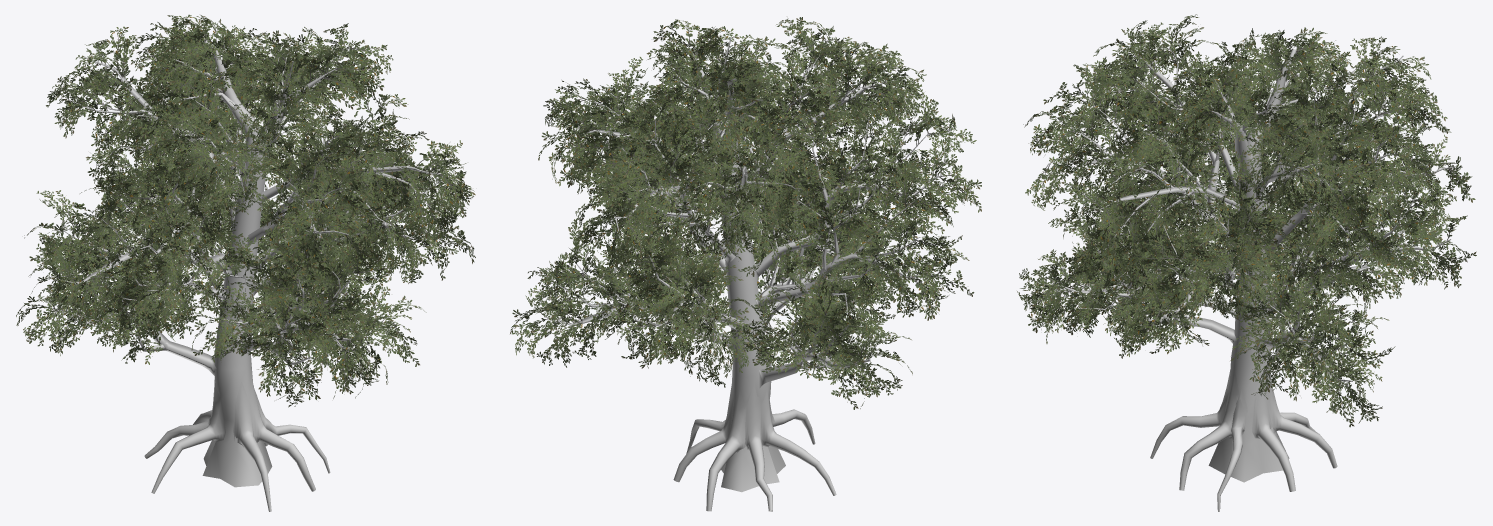
3 views of the same model, side by side, from view 1: azimuth 30°, elevation 25°; view 2: azimuth 150°, elevation 25°; view 3: azimuth 270°, elevation 25° (orthographic).
Parts seen in each view (by area): view 1: Oak01_LOD0; view 2: Oak01_LOD0; view 3: Oak01_LOD0.
Part boxes in pixels (x1,y1,x2,y2): Oak01_LOD0: (16,14,475,511); Oak01_LOD0: (510,17,981,511); Oak01_LOD0: (1017,14,1476,511).
Size of the model in its own units: 22.98 by 24.2 by 23.31.
